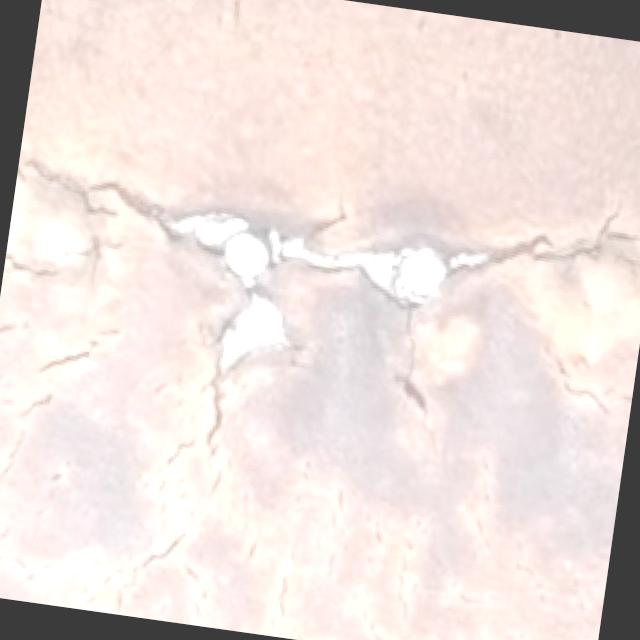crack: (452, 194, 596, 298), (378, 320, 440, 438), (72, 180, 118, 288), (30, 308, 100, 378), (184, 367, 236, 461)
